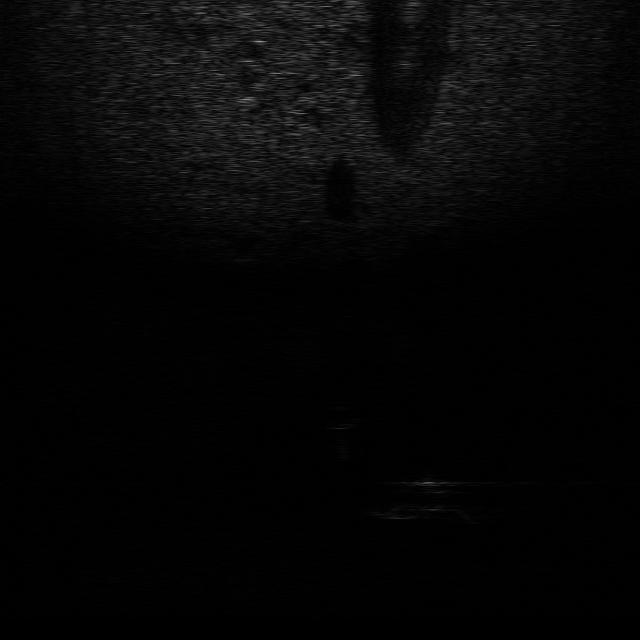ball: (315, 401, 366, 432)
tyre: (370, 469, 454, 523)
